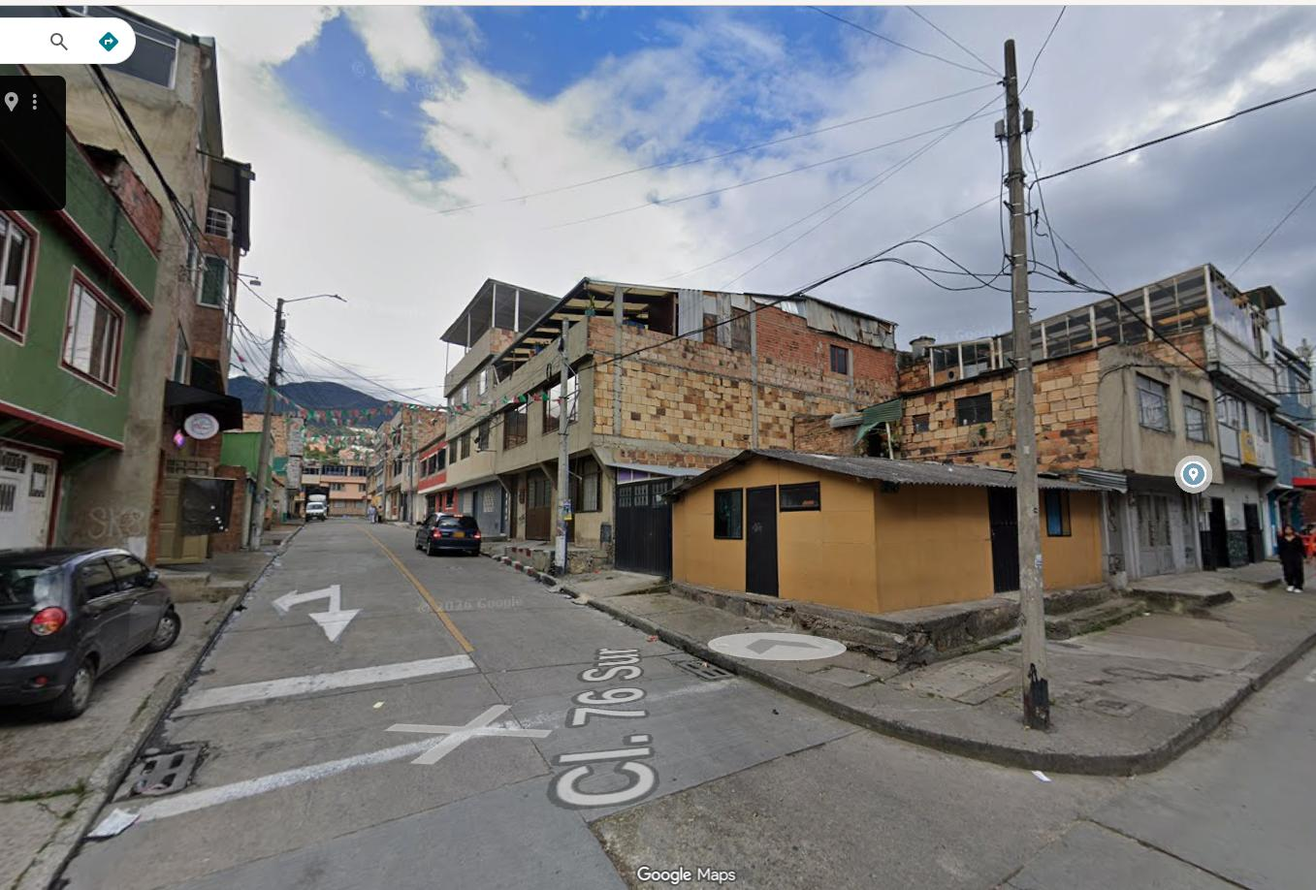casa: (666, 449, 1017, 663), (0, 126, 158, 553), (436, 279, 615, 544), (1096, 346, 1219, 581), (1040, 480, 1117, 608)
poste: (1003, 40, 1045, 726)
